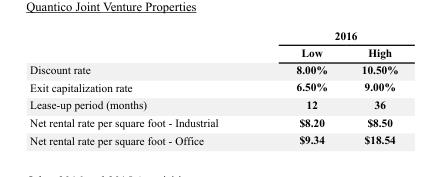table: (28, 28, 397, 145)
table column: (28, 28, 256, 145), (256, 28, 343, 145), (343, 28, 397, 145)
table column header: (28, 28, 397, 60)
table row: (28, 77, 397, 95), (28, 95, 397, 113), (28, 43, 397, 60), (28, 60, 397, 77), (28, 113, 397, 130), (28, 28, 397, 43), (28, 130, 397, 145)
table spanning cell: (256, 28, 397, 43)
